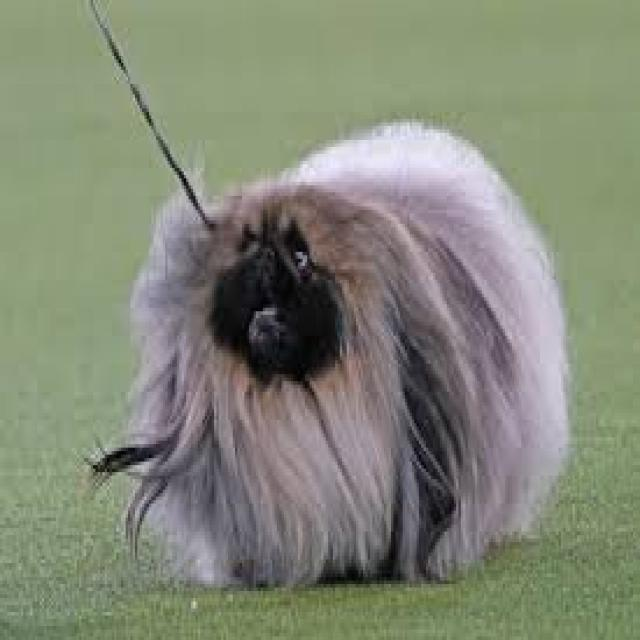dog: (182, 180, 383, 471)
